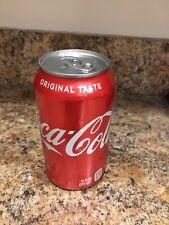metal: (34, 49, 115, 190)
